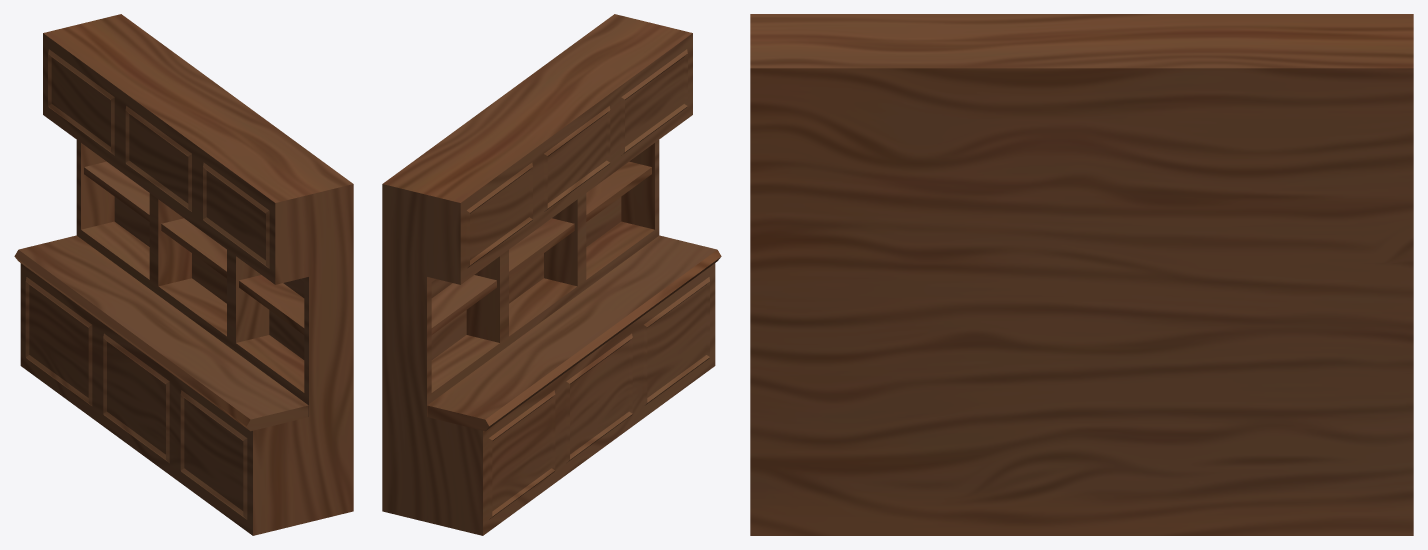
The model's file is SM_Shelf.fbx.
The picture shows the model from 3 angles, left to right: view 1: azimuth 30°, elevation 25°; view 2: azimuth 150°, elevation 25°; view 3: azimuth 270°, elevation 25°; orthographic projection. The views are drawn at different scales.
Parts seen in each view (by area): view 1: Cube.002; view 2: Cube.002; view 3: Cube.002.
Part boxes in pixels (x1,y1,x2,y2): Cube.002: (14, 14, 353, 535); Cube.002: (382, 14, 721, 535); Cube.002: (750, 14, 1413, 535).
Size of the model in its own units: 0.9567 by 3.6 by 2.8.
